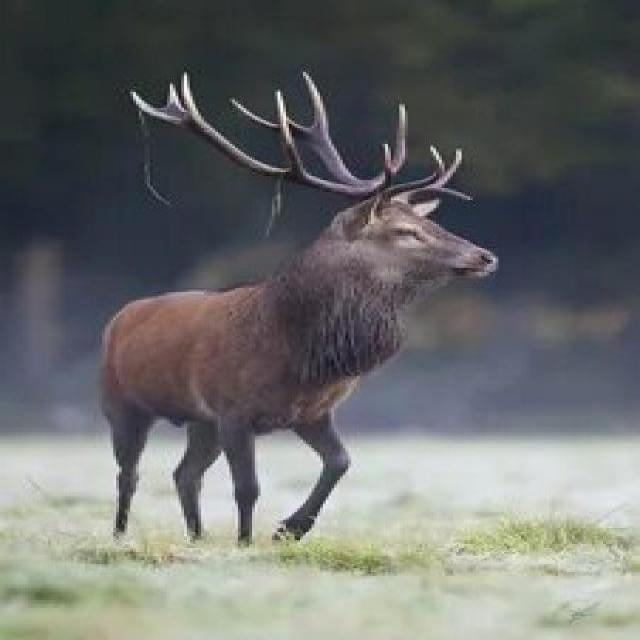deer: (11, 57, 600, 638)
